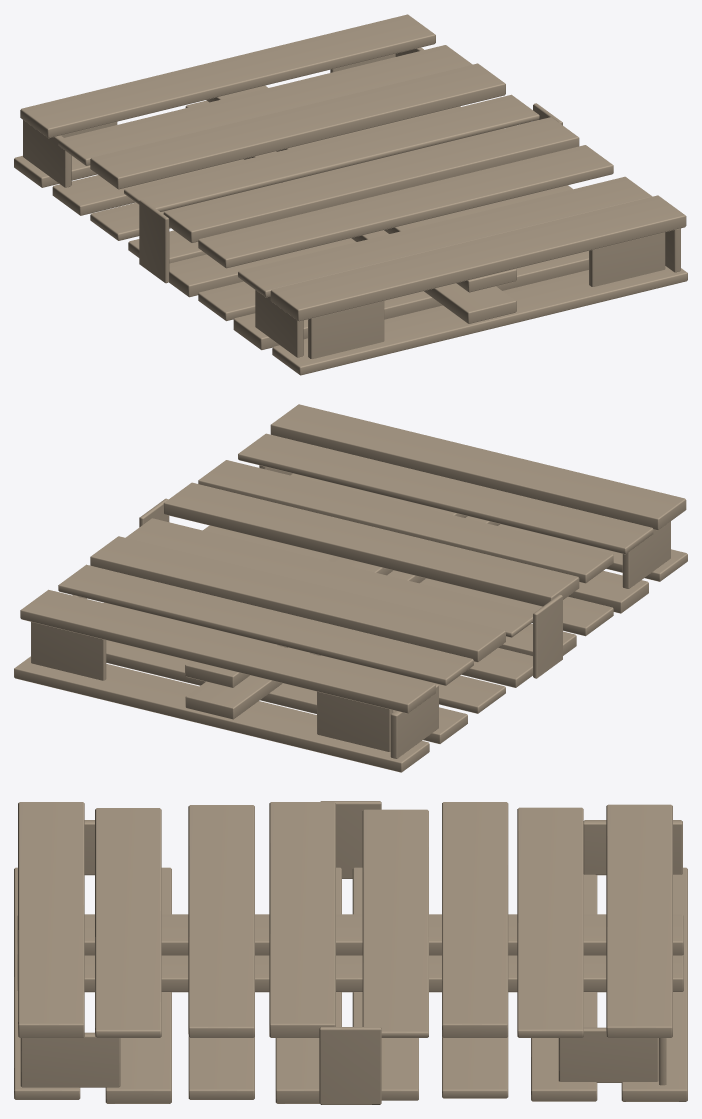
Rendered from Wooden_Palette_Bevel2.fbx.
3 renders of one model, top to bottom at view 1: azimuth 30°, elevation 25°; view 2: azimuth 150°, elevation 25°; view 3: azimuth 270°, elevation 25°, orthographic. The views are drawn at different scales.
Visible parts, largest first — view 1: pCube174; view 2: pCube174; view 3: pCube174.
Boxes of the visible parts, x1=… form: pCube174: x1=14, y1=14, x2=687, y2=375; pCube174: x1=14, y1=404, x2=687, y2=772; pCube174: x1=14, y1=801, x2=687, y2=1104.
Size of the model in its own units: 0.801 by 0.1313 by 0.9981.
